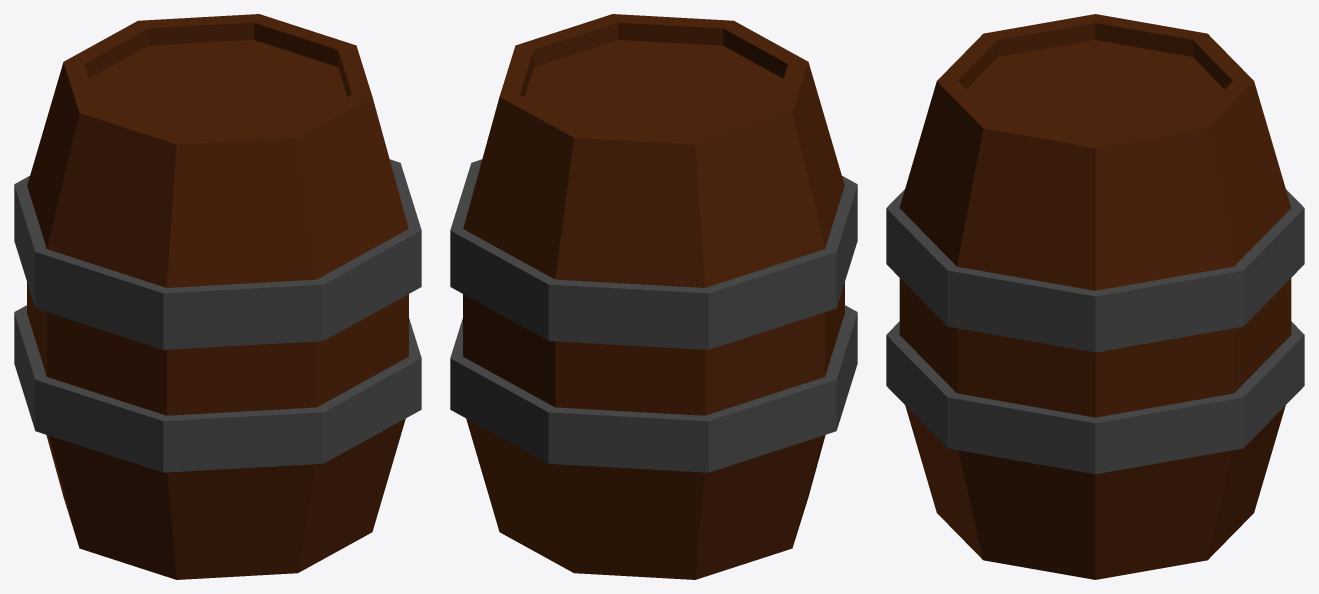
File: Barril.fbx
The picture shows the model from 3 angles, left to right: view 1: azimuth 30°, elevation 25°; view 2: azimuth 150°, elevation 25°; view 3: azimuth 270°, elevation 25°; orthographic projection.
Visible parts, largest first — view 1: madeira, metal cima, metal baixo; view 2: madeira, metal cima, metal baixo; view 3: madeira, metal cima, metal baixo.
Part boxes in pixels (x1,y1,x2,y2): madeira: [27, 14, 408, 579]; metal cima: [14, 159, 421, 349]; metal baixo: [14, 305, 421, 472]; madeira: [463, 14, 844, 579]; metal cima: [450, 159, 857, 349]; metal baixo: [450, 305, 857, 472]; madeira: [899, 14, 1291, 579]; metal cima: [886, 189, 1304, 352]; metal baixo: [886, 321, 1304, 474].
Bounding box in the file's own units: 105 × 120 × 105.
